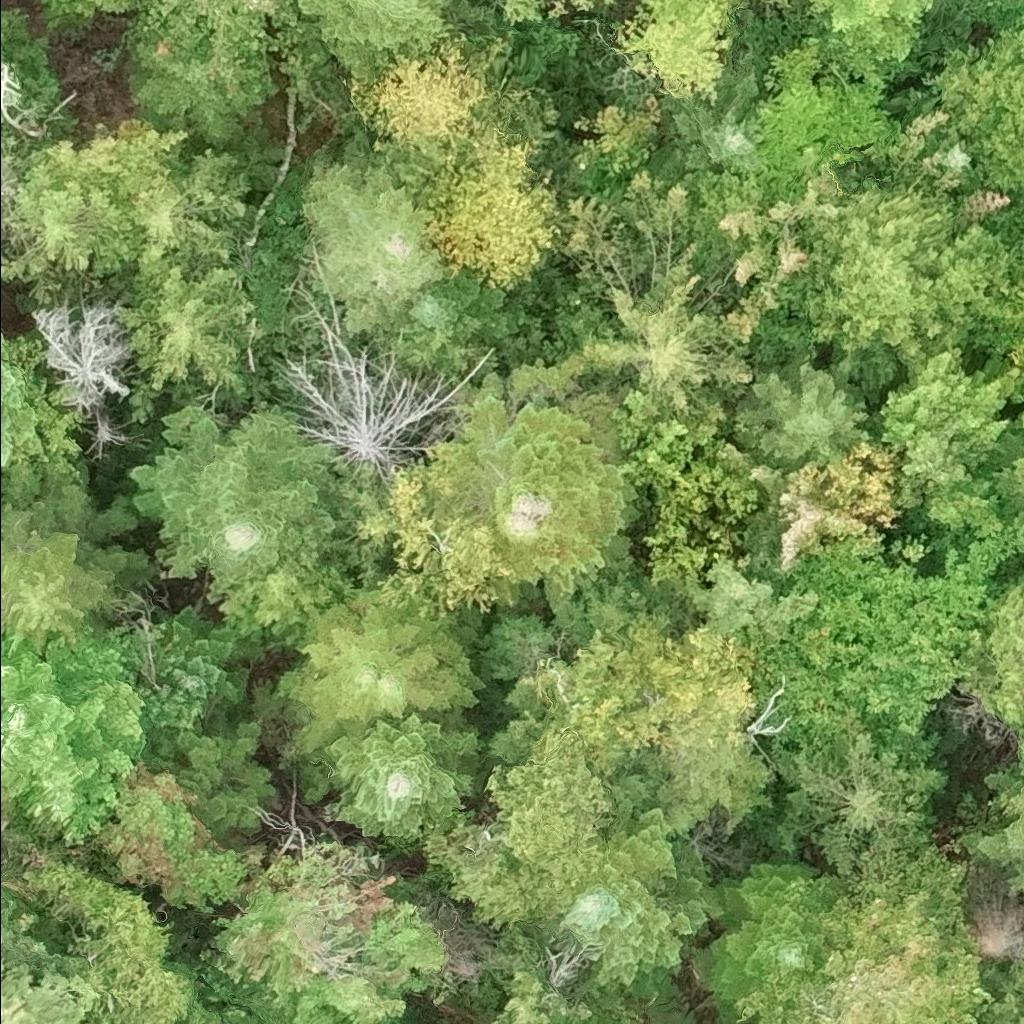crown: (547, 172, 779, 442), (758, 521, 1023, 754), (777, 164, 1010, 404), (416, 711, 629, 936), (734, 842, 997, 1023), (198, 840, 455, 1023), (271, 275, 497, 479), (467, 354, 646, 604), (357, 374, 529, 628), (130, 401, 351, 582), (20, 862, 254, 1023), (0, 620, 155, 849), (276, 590, 487, 757), (296, 133, 467, 336), (558, 803, 725, 997), (759, 709, 947, 880), (0, 459, 157, 658), (877, 346, 1023, 556), (416, 87, 563, 290), (207, 485, 386, 650), (86, 764, 268, 914), (687, 861, 852, 1023), (755, 34, 903, 198), (317, 708, 489, 845), (108, 253, 265, 398), (350, 30, 509, 162), (125, 14, 280, 149), (0, 157, 137, 301), (924, 11, 1023, 201), (731, 356, 881, 471), (655, 46, 770, 181), (126, 144, 253, 263), (0, 886, 101, 1023), (154, 607, 260, 732), (615, 0, 742, 104), (0, 329, 88, 479), (28, 300, 127, 429), (27, 117, 192, 190), (297, 0, 454, 75), (960, 727, 1023, 906), (959, 564, 1023, 732), (815, 0, 936, 79), (969, 196, 1023, 368), (140, 0, 307, 53), (389, 268, 515, 334), (977, 414, 1023, 548), (968, 868, 1023, 964), (78, 401, 147, 463), (502, 0, 609, 26), (742, 0, 794, 13), (795, 0, 831, 18), (1012, 948, 1023, 1005), (1007, 382, 1023, 421), (0, 161, 13, 198), (996, 0, 1023, 14), (1017, 1005, 1023, 1023), (741, 1021, 752, 1023)
